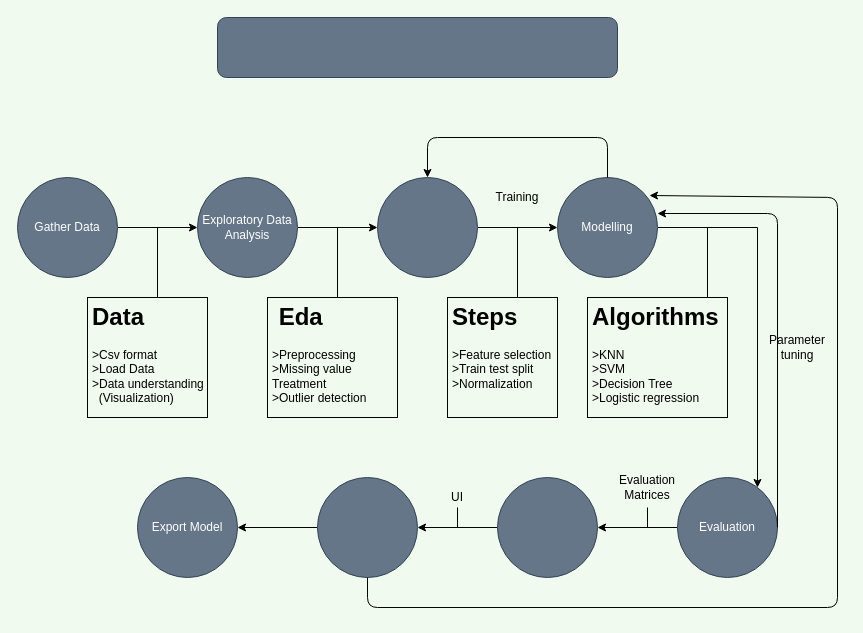
Image size: 863x633. Some labels were removed from this diagram. The centre of each missing label's shape, as x and y in pixels:
"Data preparation" belongs at point 427,227.
"Deployment" belongs at point 547,527.
"SOLUTION DESIGN" belongs at point 417,47.
"User Feedback" belongs at point 367,527.
